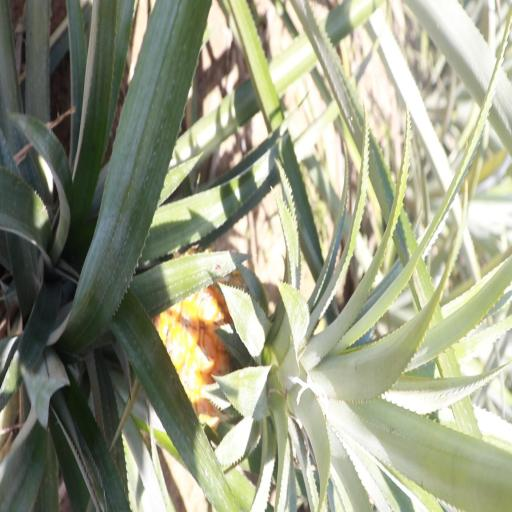Pineapple - v8 v1: (151, 260, 406, 467)
